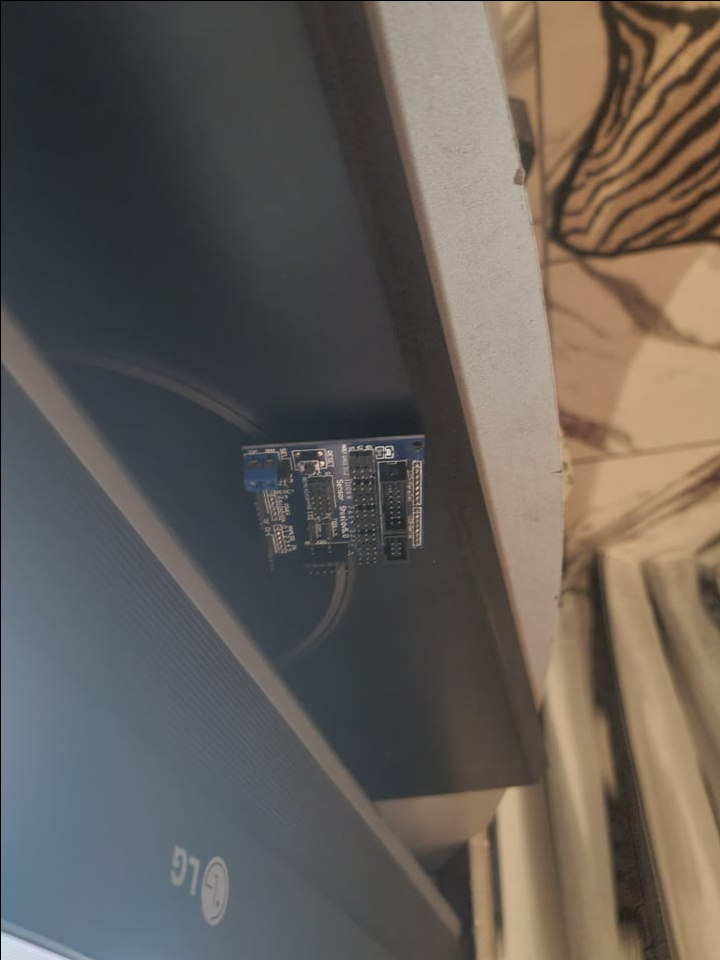5V EXPANSION: (240, 434, 430, 576)
